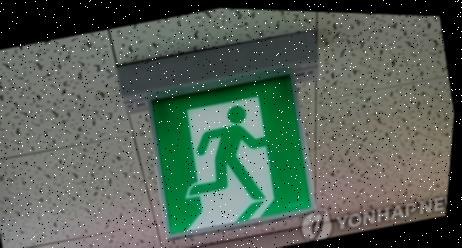emergency_exit: (2, 8, 456, 247), (147, 69, 317, 241)
